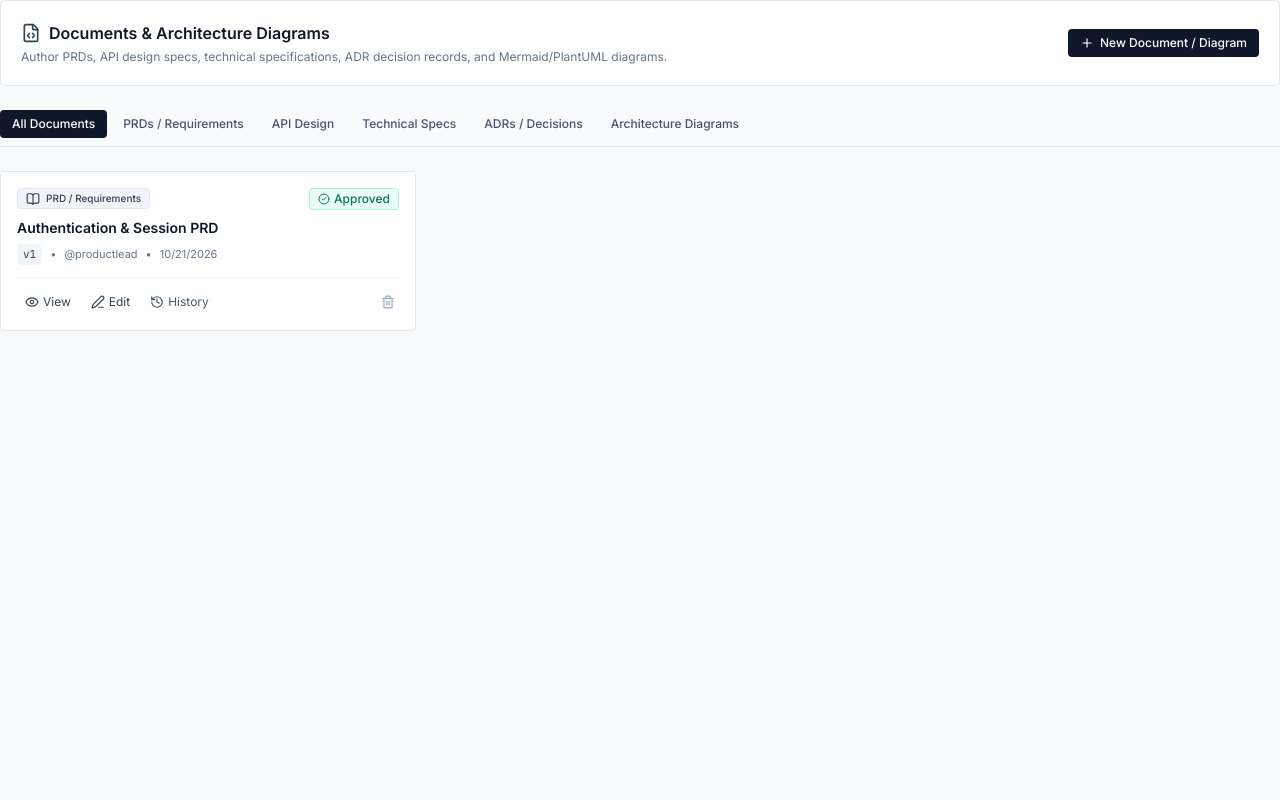
Scenario: Phase 4: Documents & Architecture Diagrams Components › renders structured PRD with problem statement, functional requirements, and scope
Check: the heading "Authentication & Session PRD" is shown, box 17,219 -> 218,236
Click the button titled "View & Preview" at point(48, 302), box 17,290 -> 79,314
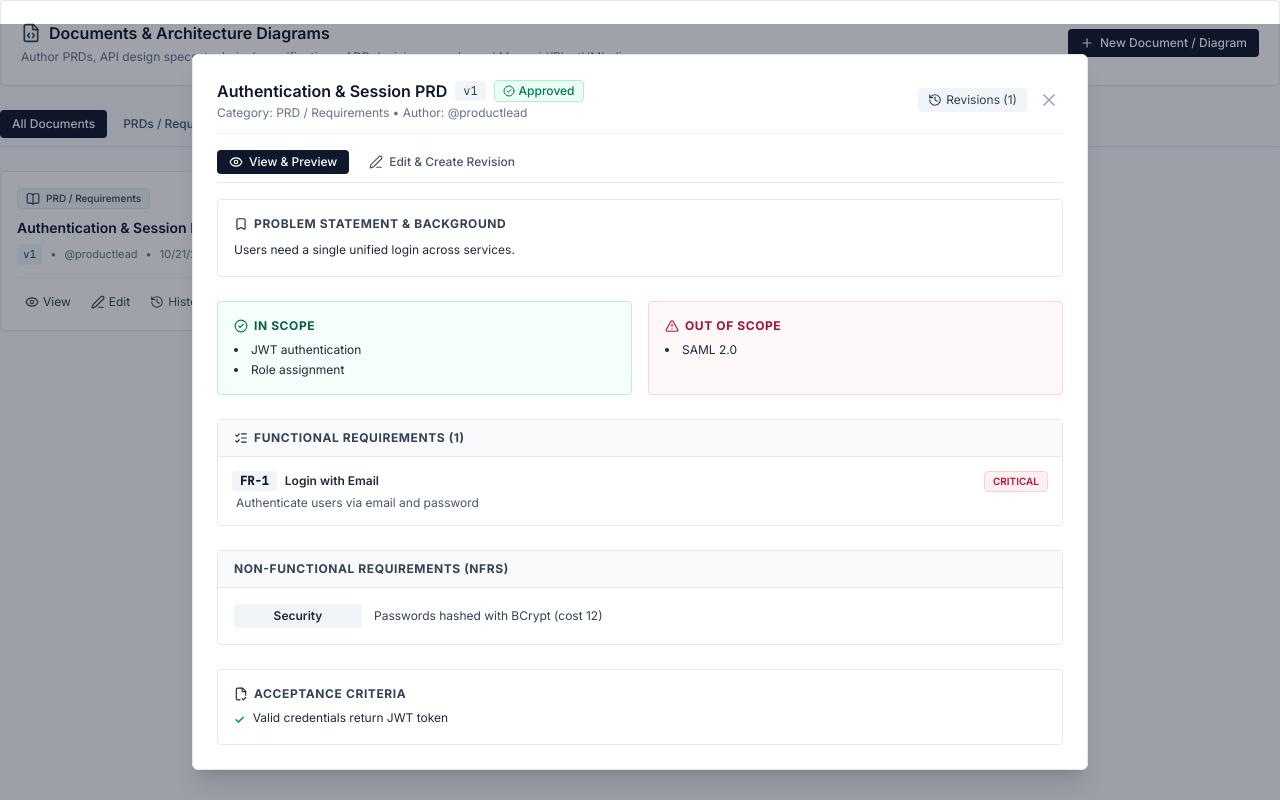
Check: the text "Users need a single unified login across services." is shown, box 234,242 -> 515,257
Check: the list item "JWT authentication" is shown, box 251,342 -> 361,357
Check: the list item "SAML 2.0" is shown, box 682,342 -> 737,357
